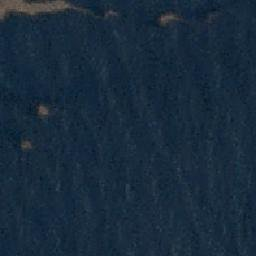debris: (1, 1, 66, 17), (156, 9, 180, 27), (65, 3, 95, 10), (18, 138, 33, 150), (37, 103, 49, 117), (104, 10, 116, 18)
